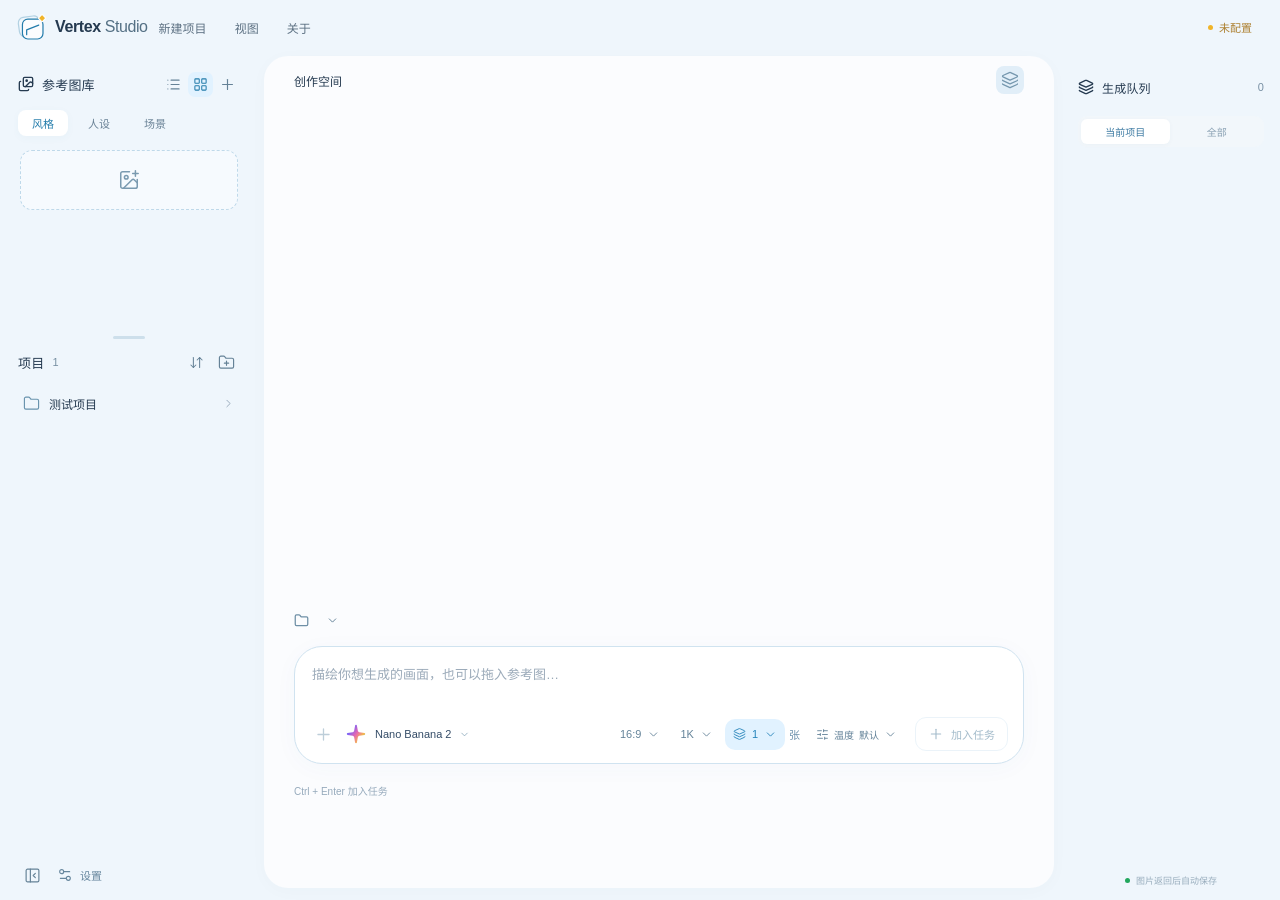
Test: 运行中的项目不能从右键菜单归档
The width and height of the screenshot is (1280, 900).
Right-click the button "测试项目": (129, 404) 14,385 -> 244,422
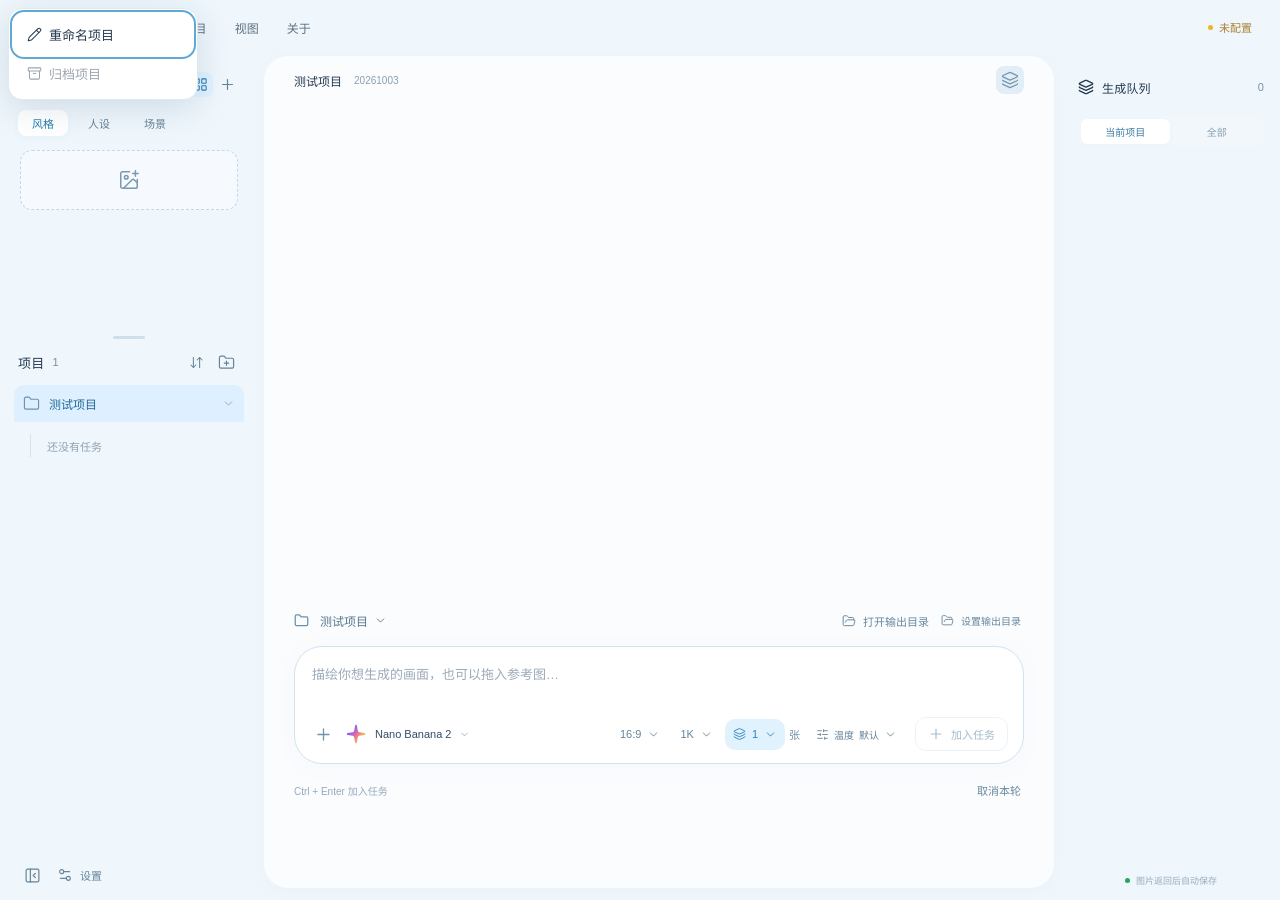
Now the menu item "归档项目" is disabled, box 15,54 -> 191,93
